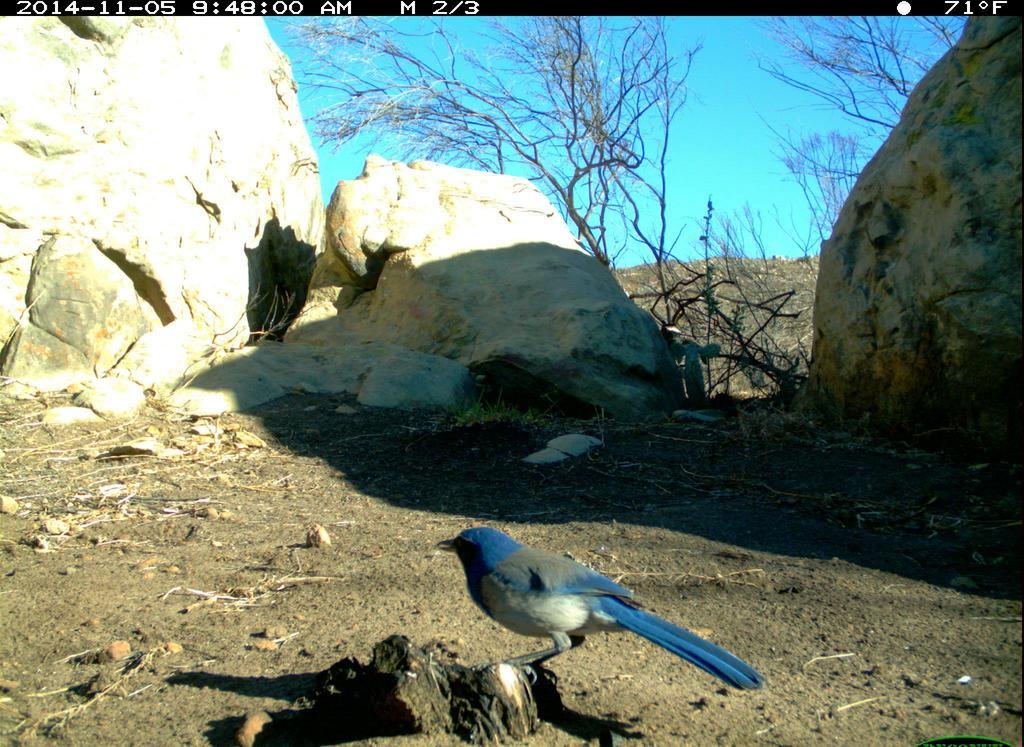bird: (424, 502, 774, 701)
